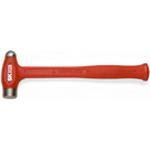hammer: (0, 47, 149, 99)
